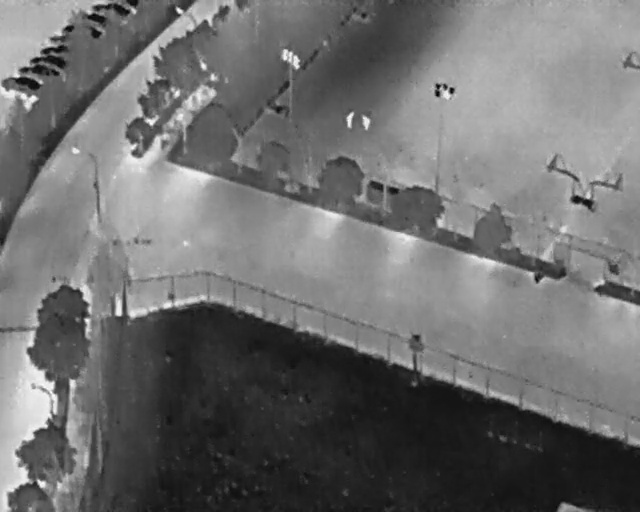Car: (14, 58, 62, 88), (0, 70, 44, 101), (57, 19, 103, 45), (28, 49, 68, 72), (92, 0, 132, 21), (76, 7, 114, 29), (38, 44, 71, 57), (47, 32, 74, 46)
Person: (345, 110, 356, 131), (361, 112, 371, 131)
